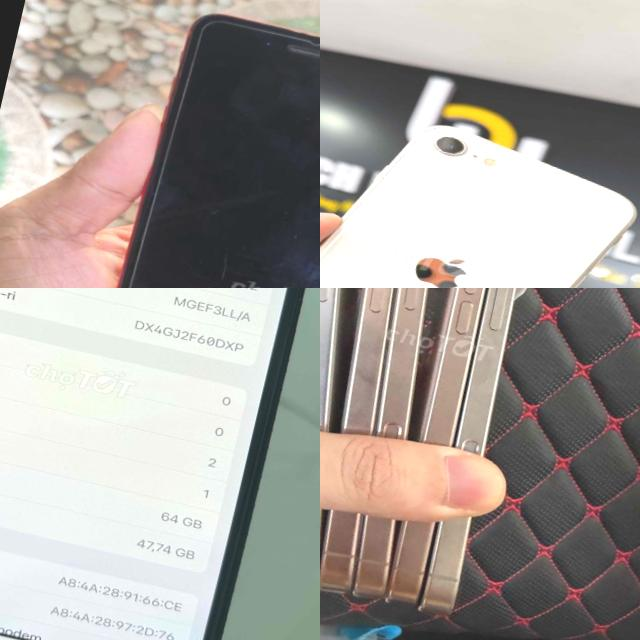gen_12_13: (0, 288, 320, 640)
gen_16: (409, 288, 569, 628)
gen_7_8: (90, 0, 320, 288), (320, 85, 640, 288)
scratch: (401, 247, 468, 288)
